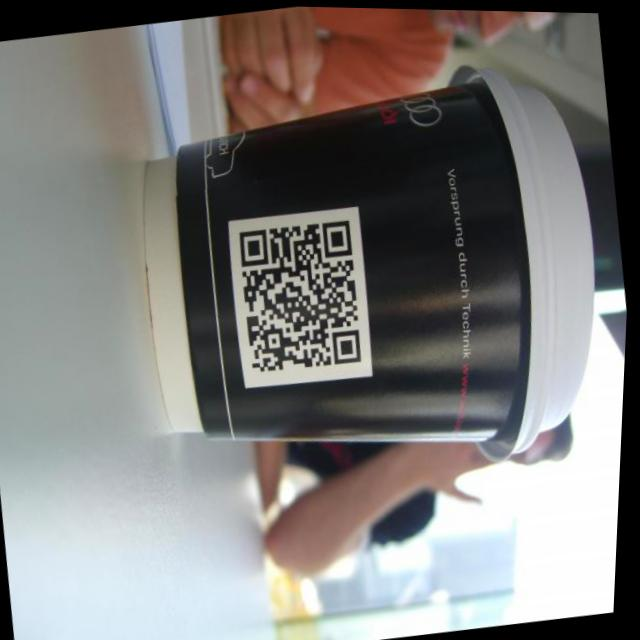qrcode: (236, 217, 371, 375)
